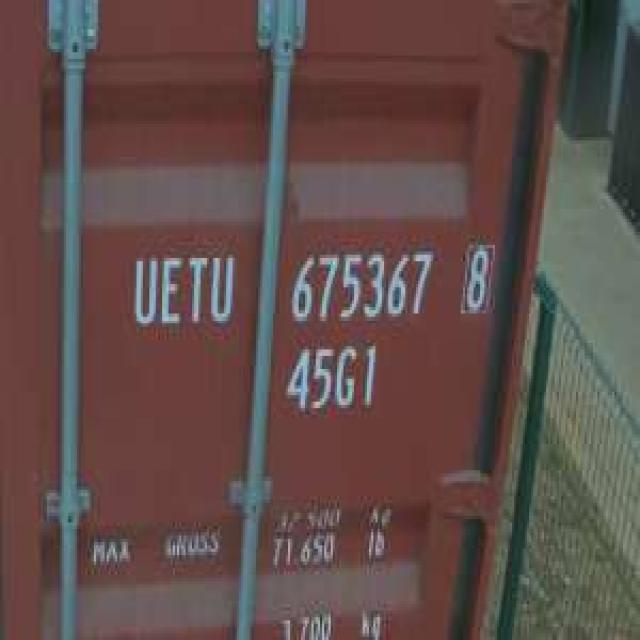dv: (457, 232, 497, 320)
owner: (126, 242, 237, 336)
serial: (284, 238, 435, 330)
size: (279, 336, 380, 422)
